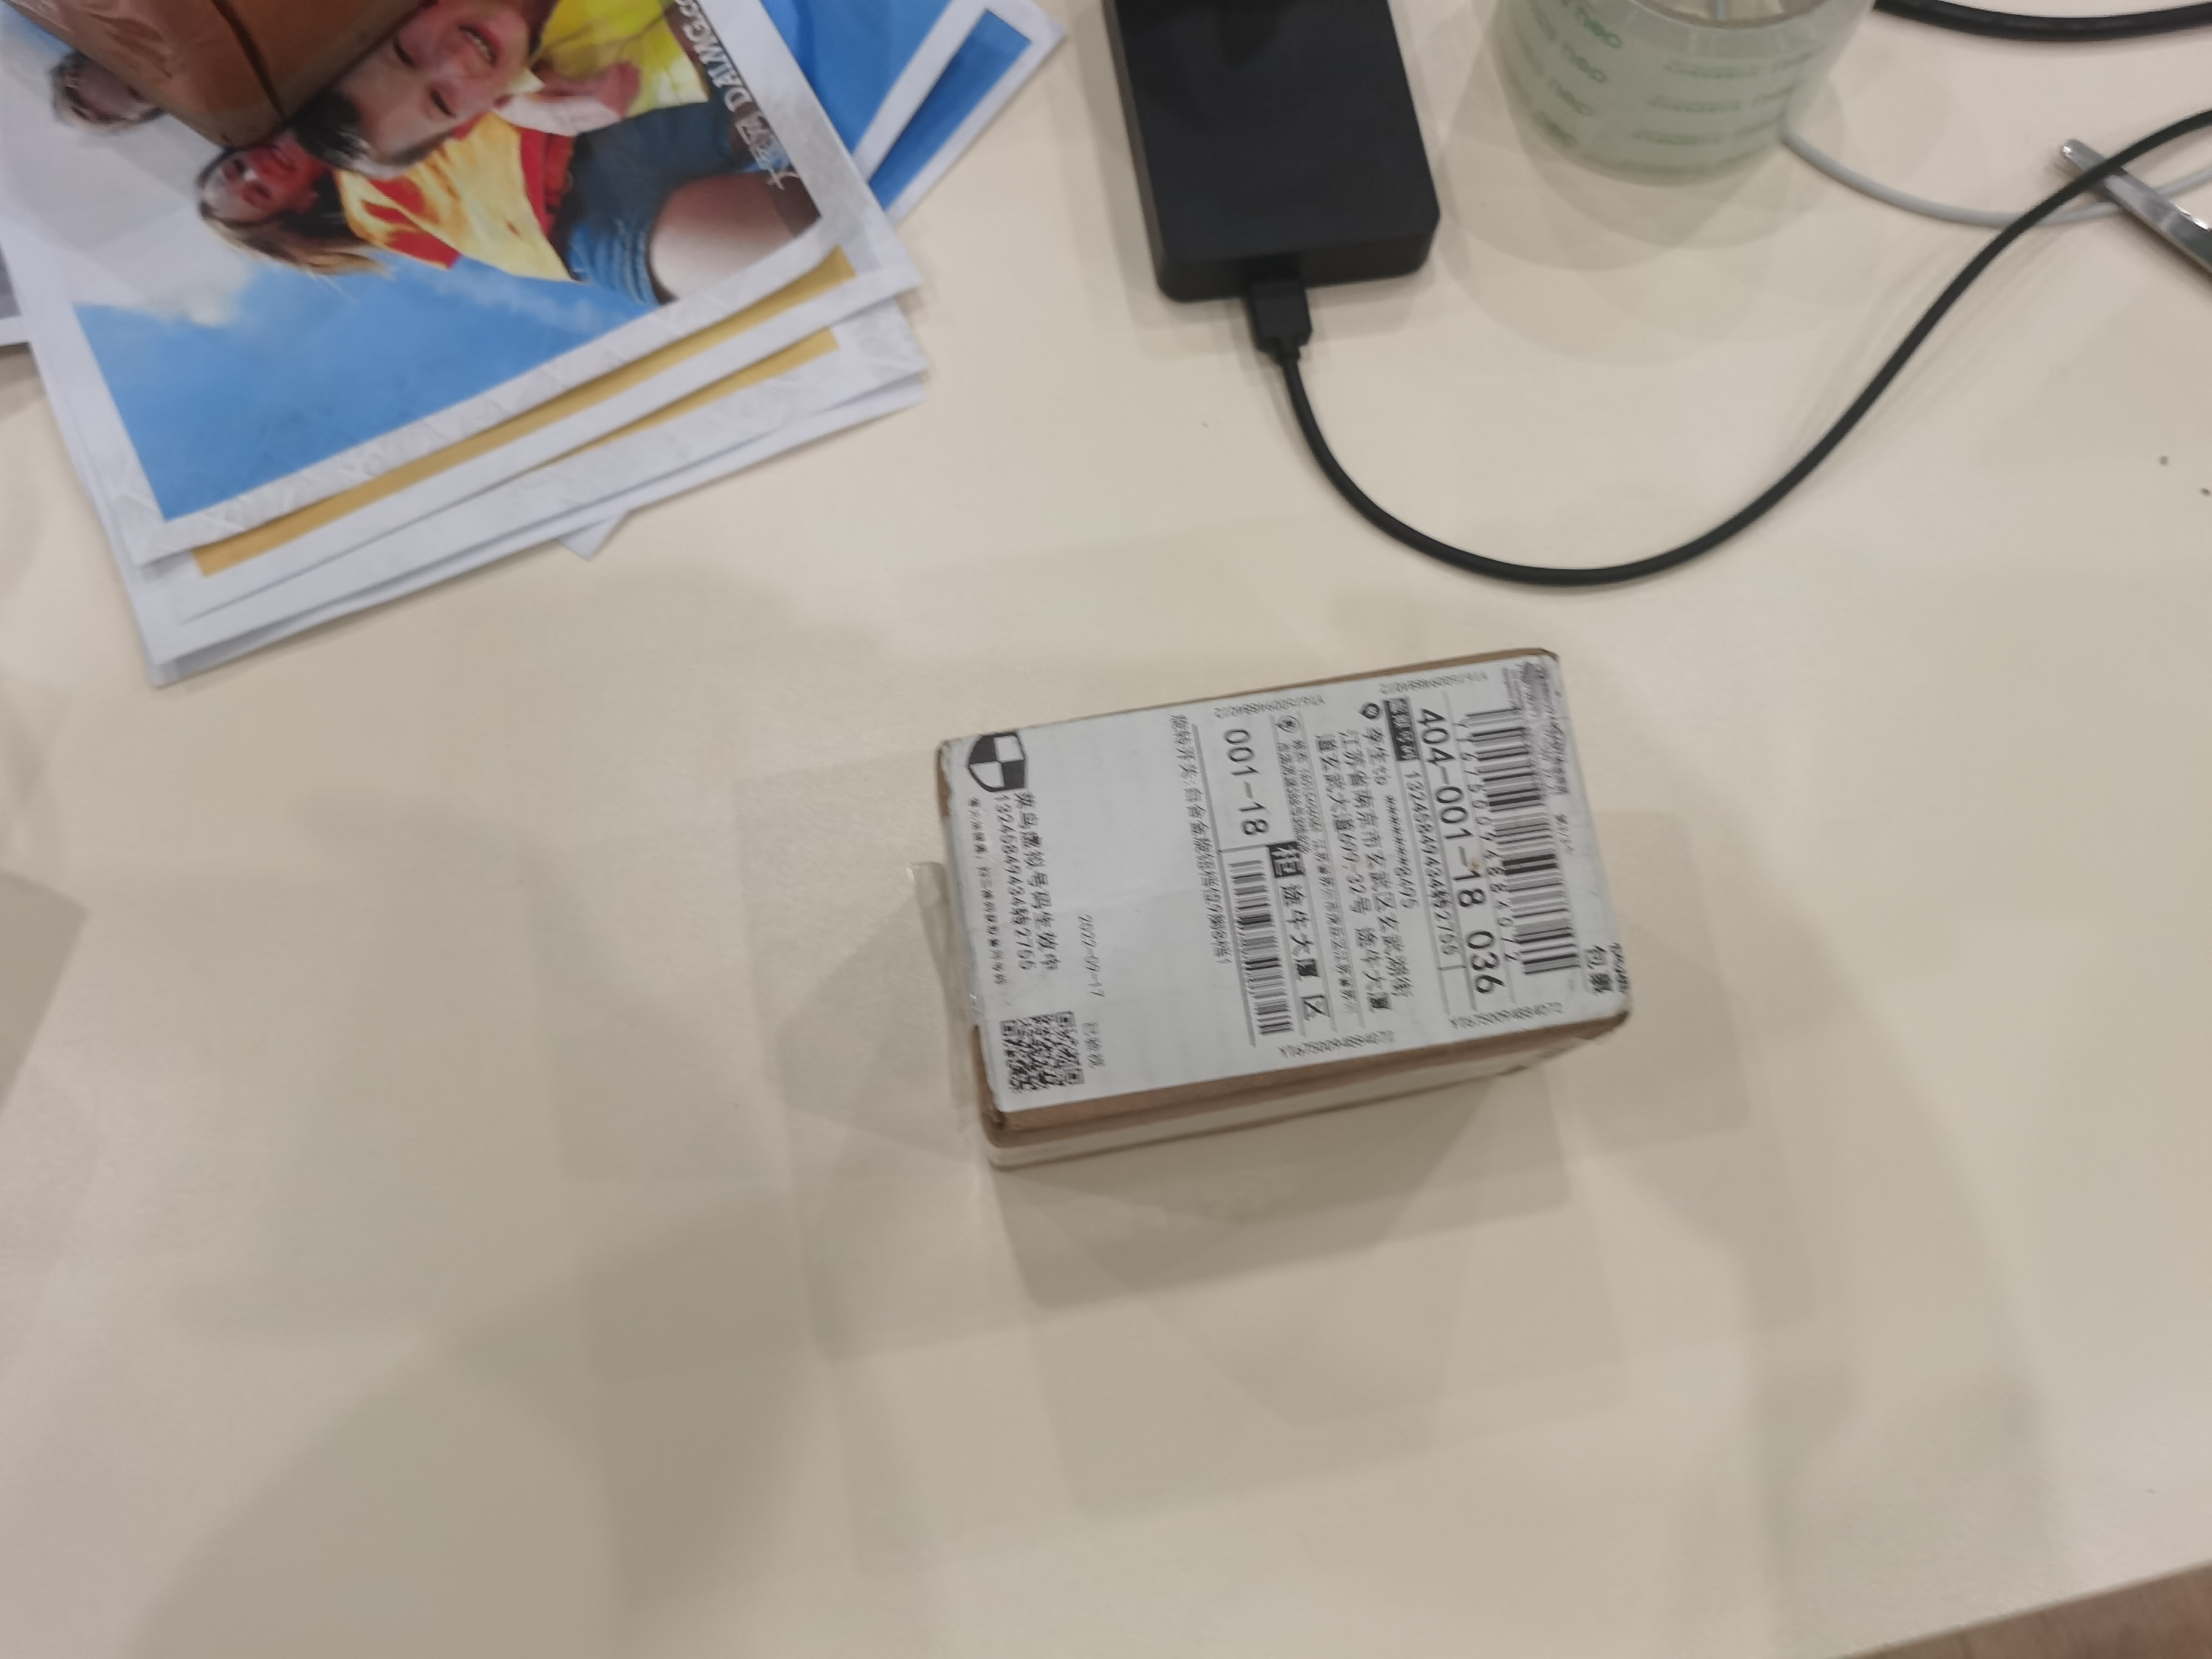box: (866, 681, 1759, 1152)
